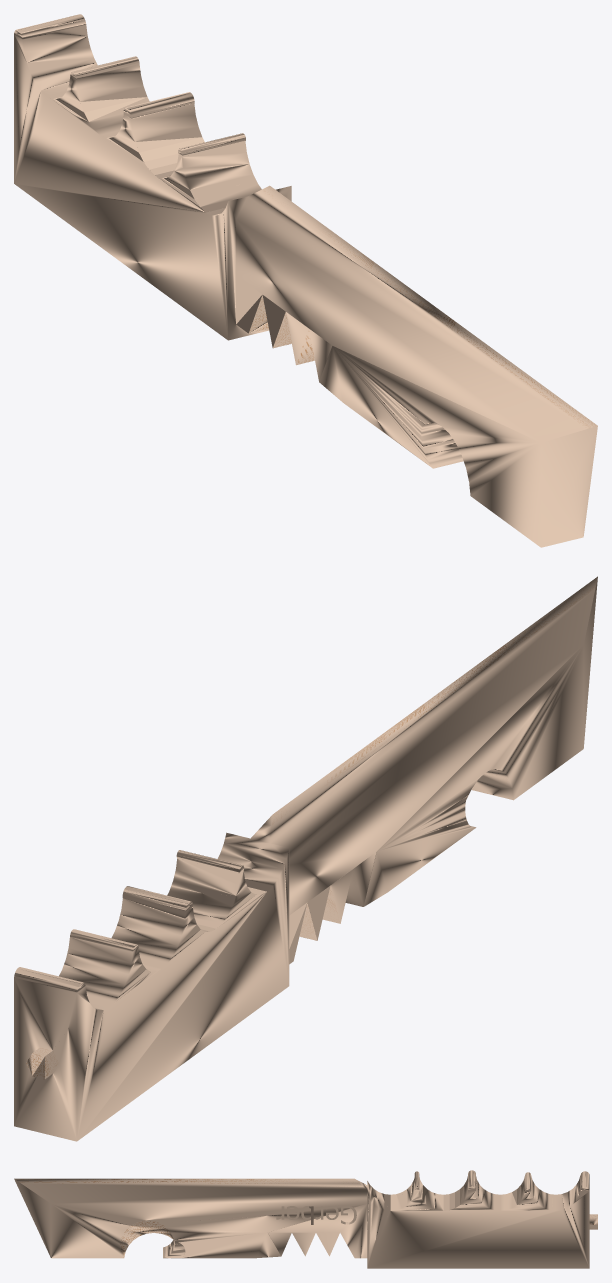
File: model_align.obj
3 views of the same model, one above another, from view 1: azimuth 30°, elevation 25°; view 2: azimuth 150°, elevation 25°; view 3: azimuth 270°, elevation 25° (orthographic). The views are drawn at different scales.
Bounding box in the file's own units: 0.0157 × 0.0375 × 0.2412.
